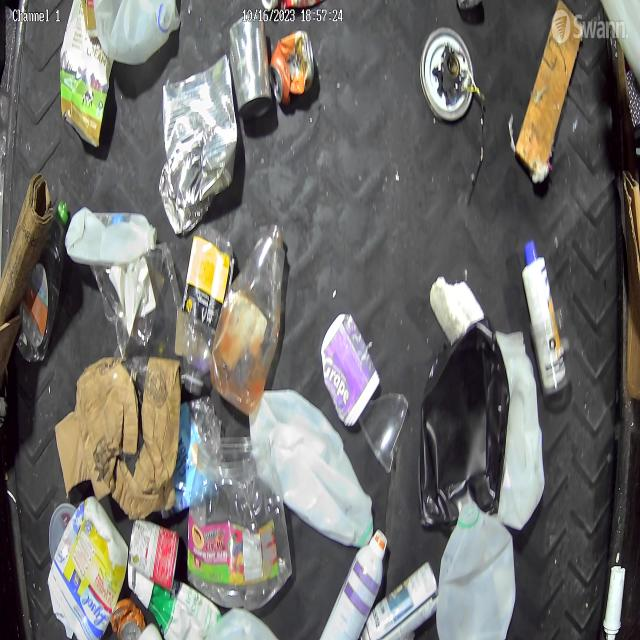can: (158, 55, 237, 233), (360, 559, 439, 640), (229, 9, 271, 119), (128, 518, 180, 591), (269, 29, 316, 106), (111, 597, 146, 640)
milk_jug: (248, 389, 374, 547), (436, 502, 516, 640), (495, 320, 546, 530), (94, 0, 180, 65), (65, 208, 157, 265)
non_white_jug: (420, 318, 510, 530), (48, 495, 129, 640), (126, 561, 221, 640), (60, 0, 110, 148)
plastic_bottle: (210, 222, 286, 417), (182, 225, 235, 392), (20, 201, 70, 363)
